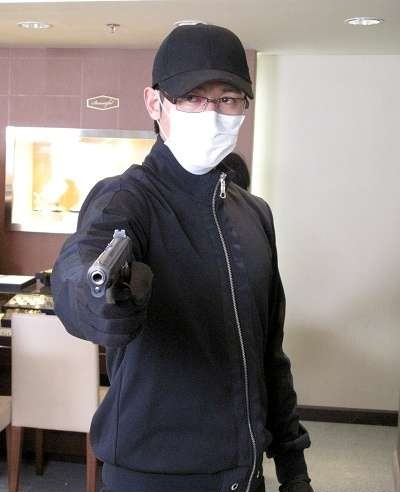face_mask: (166, 62, 243, 171)
